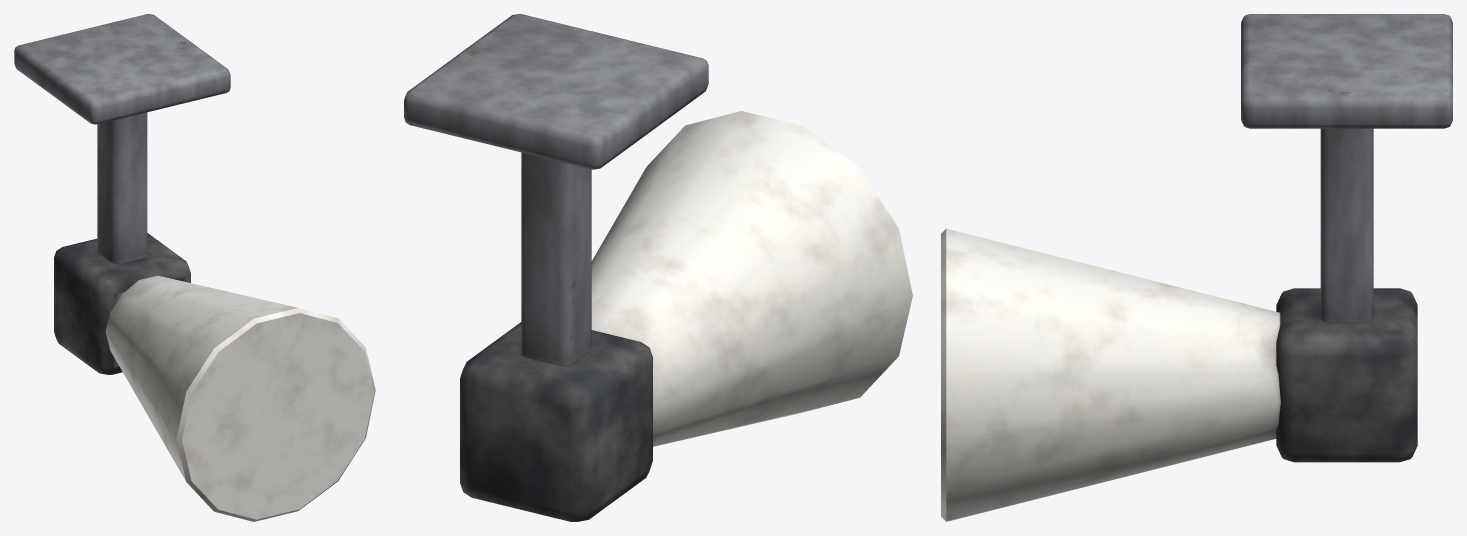
The model's file is speaker_horn.fbx.
The picture shows the model from 3 angles, left to right: view 1: azimuth 30°, elevation 25°; view 2: azimuth 150°, elevation 25°; view 3: azimuth 270°, elevation 25°; orthographic projection. The views are drawn at different scales.
Parts seen in each view (by area): view 1: Body; view 2: Body; view 3: Body.
Part boxes in pixels (bbox=[...]): Body: bbox=[14, 14, 375, 521]; Body: bbox=[404, 14, 912, 521]; Body: bbox=[941, 14, 1452, 521].
Bounding box in the file's own units: 1.7 × 2.83 × 2.9.
1 material, 1 textured.
